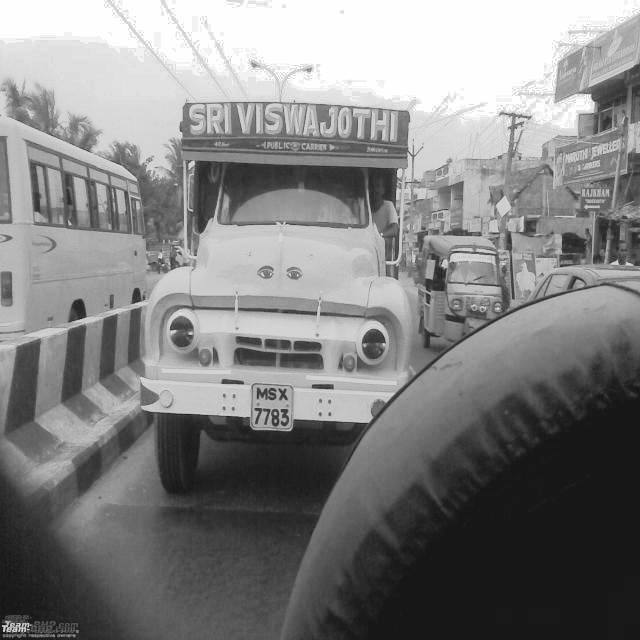HCV: (126, 61, 434, 468)
